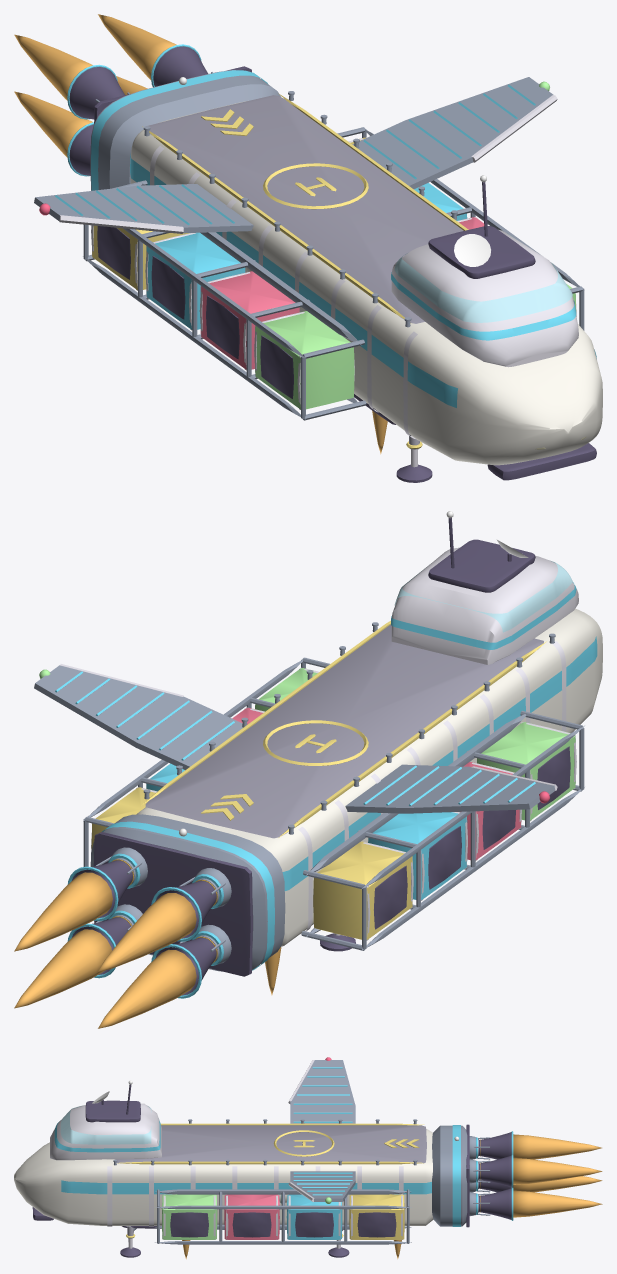
The model's file is ships_A.glb.
The picture shows the model from 3 angles, top to bottom: view 1: azimuth 30°, elevation 25°; view 2: azimuth 150°, elevation 25°; view 3: azimuth 270°, elevation 25°; orthographic projection. The views are drawn at different scales.
Visible parts, largest first — view 1: f_hull, f_deck, f_bridge, f_rad1, f_thrustFrame, f_rad-1, f_box-13, f_bridgeGlass, f_belt, f_box-12, f_box-11, f_bridgeRoof (+25 smaller); view 2: f_deck, f_hull, f_bridge, f_rad1, f_heatShield, f_rad-1, f_thrustFrame, f_box-10, f_belt, f_plume1_flame, f_plume2_flame, f_plume0_flame (+25 smaller); view 3: f_hull, f_deck, f_bridge, f_rad-1, f_thrustFrame, f_belt, f_plume3_flame, f_plume1_flame, f_plume0_flame, f_box13, f_rad1, f_box10 (+23 smaller).
Boxes of the visible parts, x1,y1,x2,y2 form: f_hull: [130, 100, 602, 465]; f_deck: [146, 95, 463, 323]; f_bridge: [391, 229, 578, 367]; f_rad1: [352, 77, 553, 189]; f_thrustFrame: [90, 70, 280, 190]; f_rad-1: [34, 184, 253, 233]; f_box-13: [255, 311, 354, 409]; f_bridgeGlass: [394, 233, 572, 322]; f_belt: [130, 154, 596, 407]; f_box-12: [200, 271, 299, 369]; f_box-11: [146, 232, 245, 329]; f_bridgeRoof: [428, 226, 535, 278]; f_deck: [145, 624, 543, 838]; f_hull: [136, 608, 602, 946]; f_bridge: [391, 547, 578, 664]; f_rad1: [34, 665, 242, 770]; f_heatShield: [93, 832, 252, 976]; f_rad-1: [345, 764, 555, 813]; f_thrustFrame: [90, 814, 285, 971]; f_box-10: [313, 841, 412, 939]; f_belt: [282, 636, 597, 890]; f_plume1_flame: [14, 872, 112, 951]; f_plume2_flame: [98, 949, 196, 1028]; f_plume0_flame: [98, 893, 196, 971]; f_hull: [14, 1128, 433, 1225]; f_deck: [115, 1125, 426, 1163]; f_bridge: [50, 1103, 161, 1160]; f_rad-1: [290, 1060, 355, 1123]; f_thrustFrame: [432, 1125, 467, 1226]; f_belt: [61, 1180, 431, 1194]; f_plume3_flame: [513, 1190, 602, 1217]; f_plume1_flame: [513, 1158, 602, 1184]; f_plume0_flame: [513, 1134, 601, 1159]; f_box13: [162, 1194, 217, 1239]; f_rad1: [290, 1171, 355, 1201]; f_box10: [349, 1194, 404, 1239].
Size of the model in its own units: 48.67 by 27.52 by 84.85.
